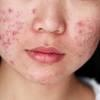Acne: (77, 26, 93, 41), (8, 24, 19, 35), (9, 9, 16, 15), (2, 38, 11, 42), (32, 8, 39, 13), (80, 19, 81, 24)
